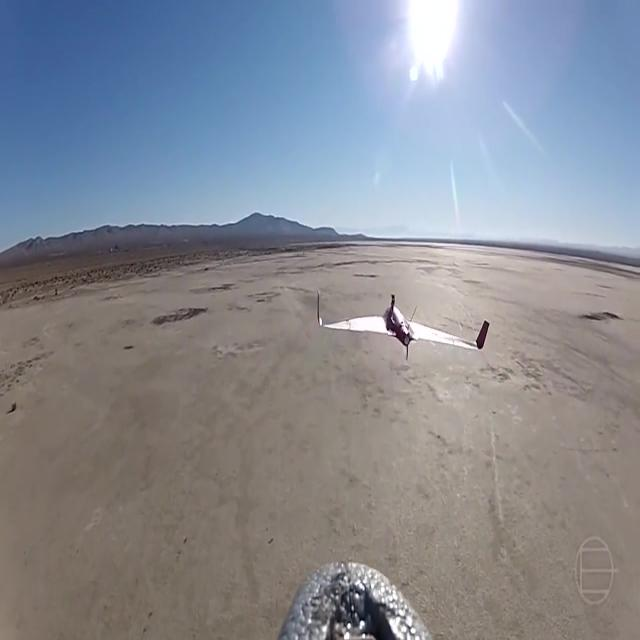iha: (315, 318, 491, 323)
